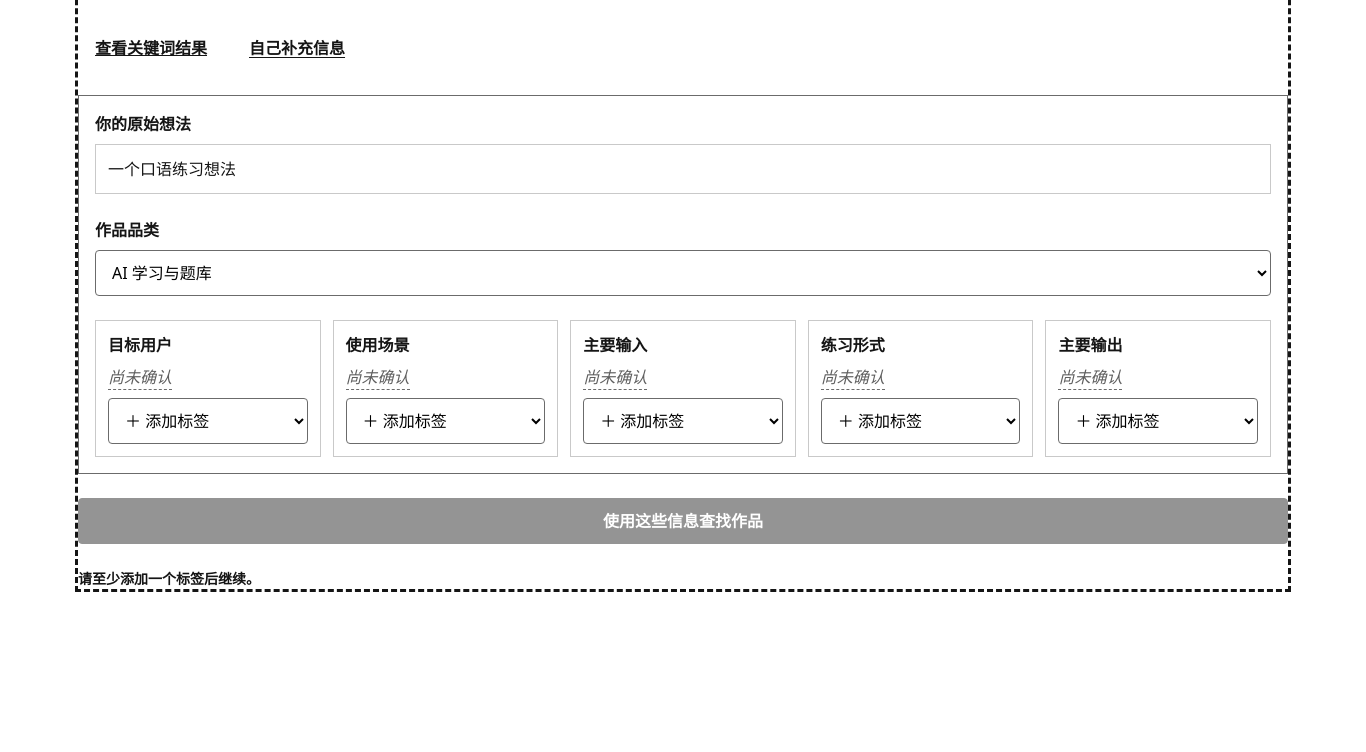
Test: DiscoverPage › offers keyword and manual-tag exits when parsing times out
(page scrolled)
expect the button "使用这些信息查找作品" is disabled: met, box [78,498,1288,544]
Select "口语模考" in the dropdown named "添加使用场景" at (445,421), box [346,398,545,444]
(page scrolled)
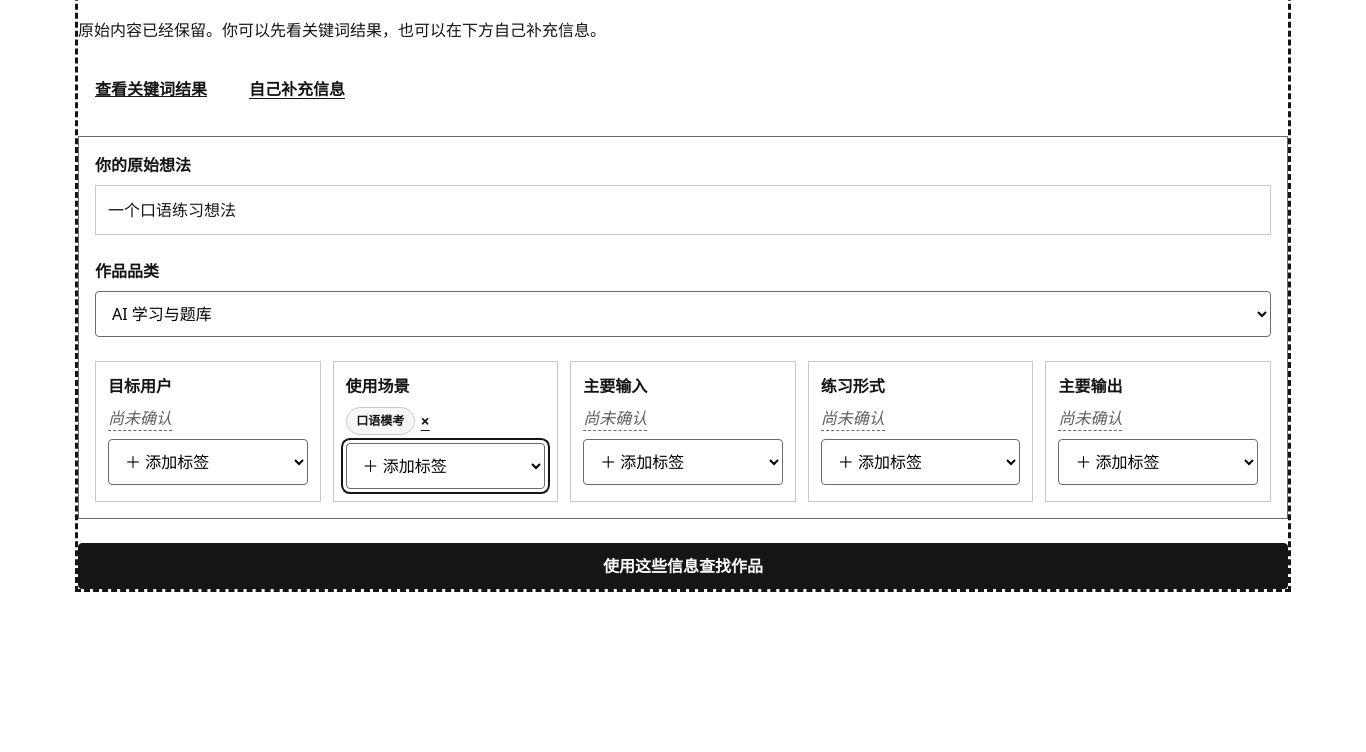
expect the button "使用这些信息查找作品" is enabled: met, box [78,543,1288,589]
